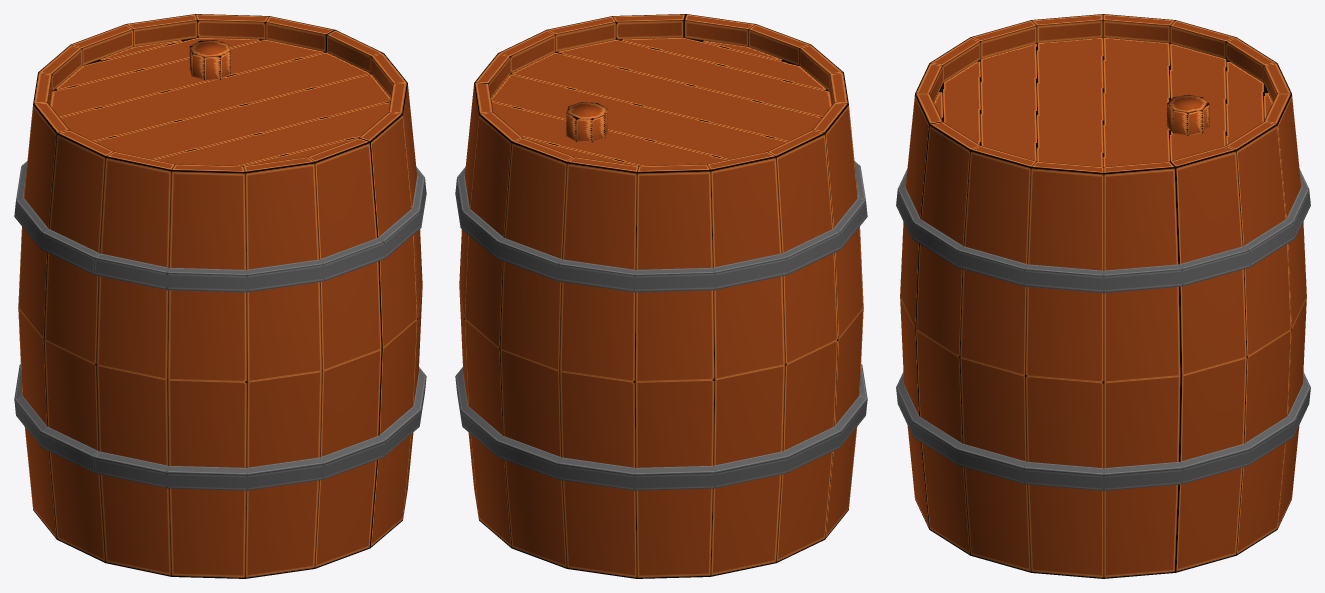
The model's file is barrel.fbx.
3 views of the same model, side by side, from view 1: azimuth 30°, elevation 25°; view 2: azimuth 150°, elevation 25°; view 3: azimuth 270°, elevation 25° (orthographic).
Visible parts, largest first — view 1: Barrel, MetalRing, Lid; view 2: Barrel, MetalRing, Lid; view 3: Barrel, MetalRing, Lid.
Boxes of the visible parts, x1,y1,x2,y2 form: Barrel: (18,14,422,578); MetalRing: (14,161,426,490); Lid: (189,40,230,80); Barrel: (459,14,863,578); MetalRing: (455,161,867,490); Lid: (566,102,607,142); Barrel: (900,14,1306,578); MetalRing: (896,169,1310,490); Lid: (1167,94,1209,135).
Bounding box in the file's own units: 145 × 145 × 158.
